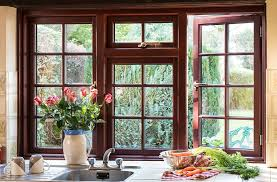Window: (24, 14, 263, 156)
